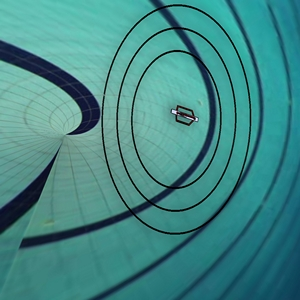circle: (90, 1, 266, 242)
submarine: (164, 96, 205, 137)
